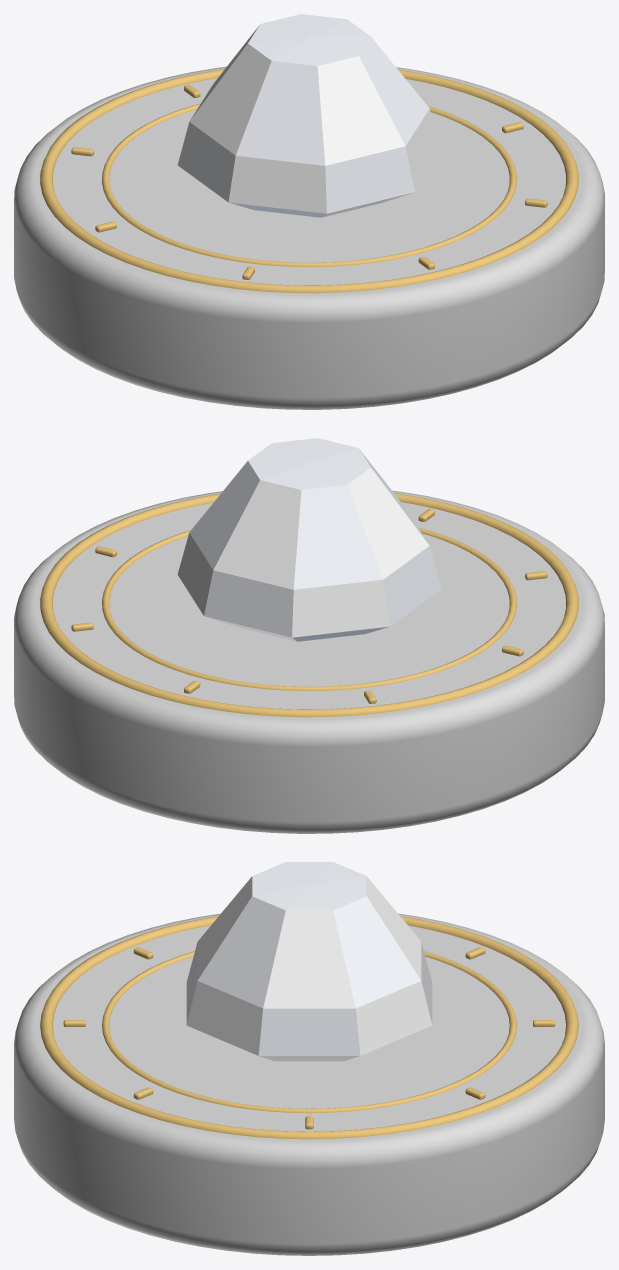
The model's file is splendor-token.glb.
3 views of the same model, one above another, from view 1: azimuth 30°, elevation 25°; view 2: azimuth 150°, elevation 25°; view 3: azimuth 270°, elevation 25° (orthographic).
Parts seen in each view (by area): view 1: GEO-token_body, GEO-cut_jewel, GEO-gold_outer_inlay, GEO-gold_inner_inlay; view 2: GEO-token_body, GEO-cut_jewel, GEO-gold_outer_inlay, GEO-gold_inner_inlay; view 3: GEO-token_body, GEO-cut_jewel, GEO-gold_outer_inlay, GEO-gold_inner_inlay.
Boxes of the visible parts, x1,y1,x2,y2 form: GEO-token_body: (14, 66, 604, 409); GEO-cut_jewel: (177, 14, 441, 217); GEO-gold_outer_inlay: (40, 69, 578, 293); GEO-gold_inner_inlay: (102, 103, 516, 266); GEO-token_body: (14, 490, 604, 833); GEO-cut_jewel: (177, 438, 441, 641); GEO-gold_outer_inlay: (40, 493, 578, 717); GEO-gold_inner_inlay: (102, 527, 516, 690); GEO-token_body: (14, 913, 604, 1255); GEO-cut_jewel: (186, 862, 432, 1061); GEO-gold_outer_inlay: (40, 916, 578, 1139); GEO-gold_inner_inlay: (102, 951, 516, 1113).
Bounding box in the file's own units: 1 × 0.473 × 1.
